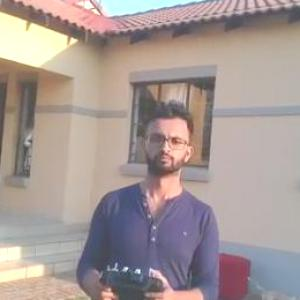follow: (72, 96, 228, 299)
null: (243, 271, 299, 299)
